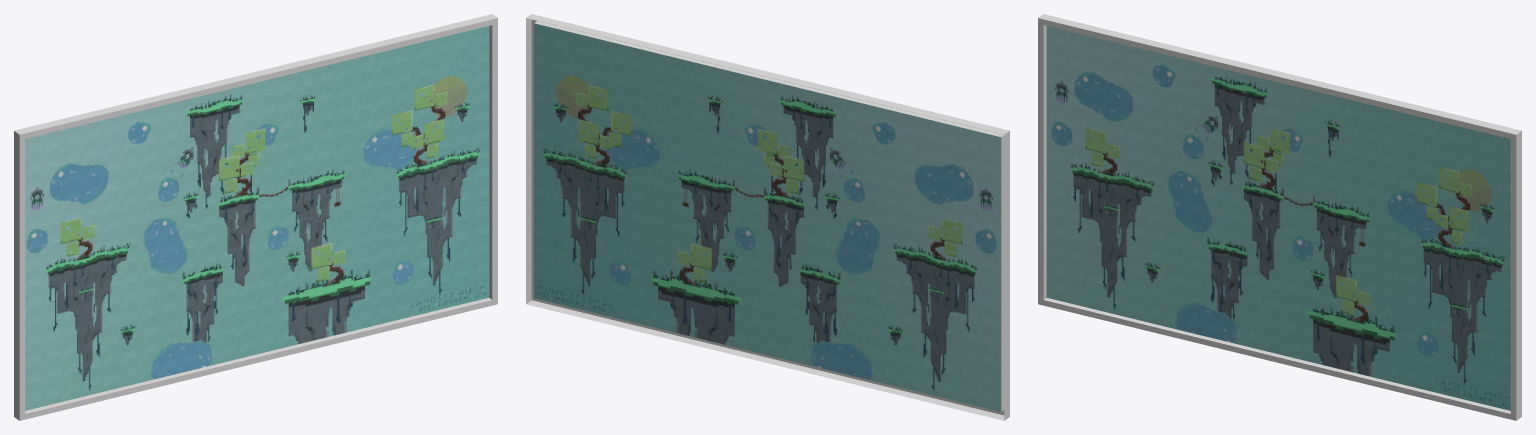
File: VoennPainting.fbx
3 views of the same model, side by side, from view 1: azimuth 30°, elevation 25°; view 2: azimuth 150°, elevation 25°; view 3: azimuth 330°, elevation 25° (orthographic).
Visible parts, largest first — view 1: Painting; view 2: Painting; view 3: Painting.
Part boxes in pixels (x1=…): Painting: x1=14, y1=14, x2=497, y2=420; Painting: x1=526, y1=14, x2=1009, y2=420; Painting: x1=1038, y1=14, x2=1521, y2=420.
Bounding box in the file's own units: 393 × 225 × 7.97.
